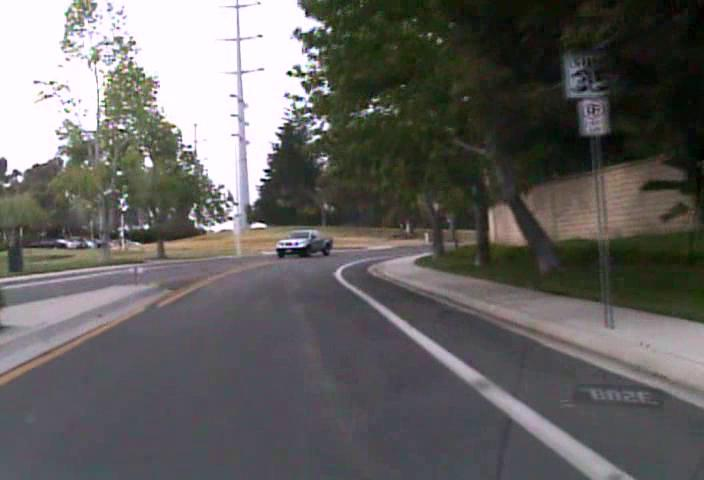speedLimit35: (561, 37, 617, 98)
